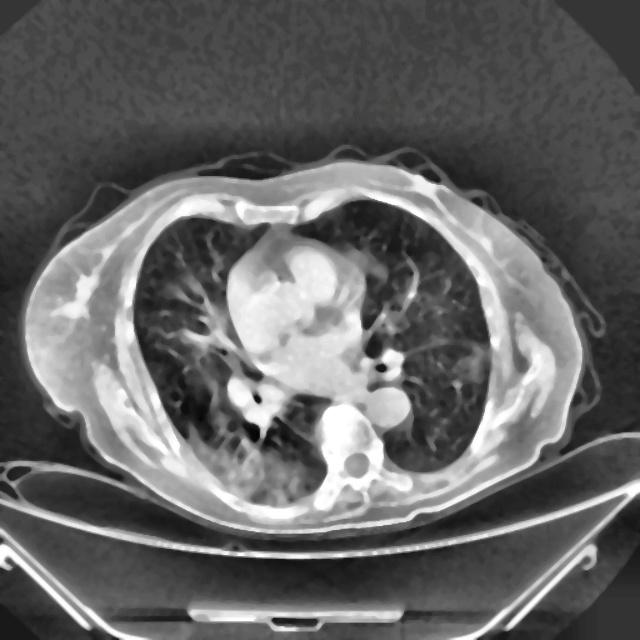covid: (19, 146, 604, 541)
